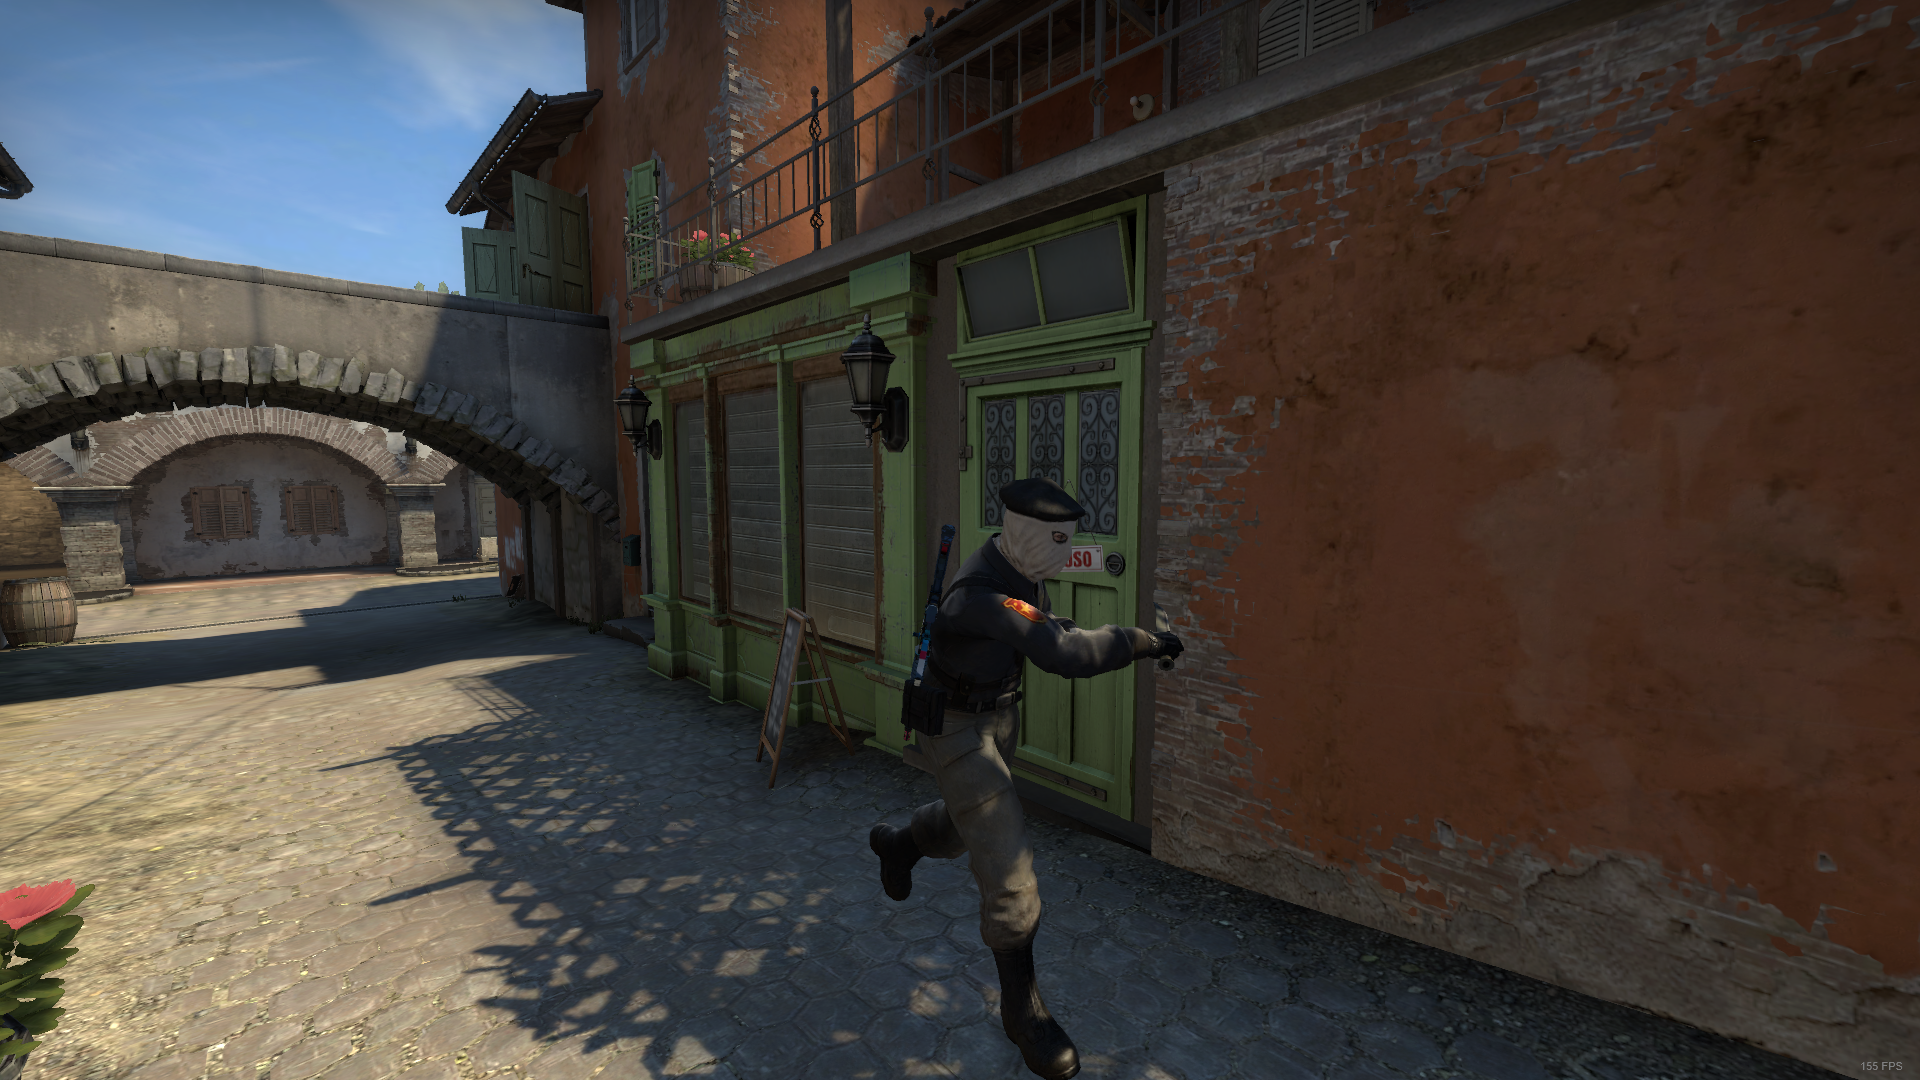t: (864, 475, 1182, 1080)
